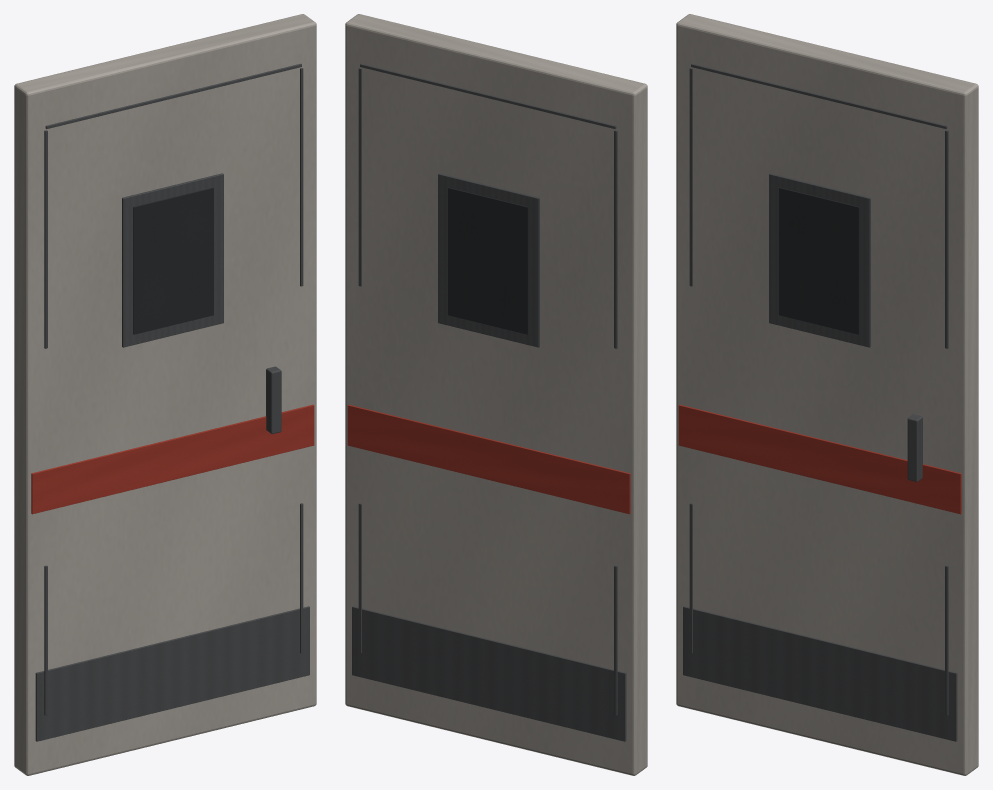
The model's file is industrial_door.glb.
The picture shows the model from 3 angles, left to right: view 1: azimuth 30°, elevation 25°; view 2: azimuth 150°, elevation 25°; view 3: azimuth 330°, elevation 25°; orthographic projection.
Parts seen in each view (by area): view 1: door_leaf.003, kick_plate.002, red_stripe, window_inset, window_bezel, panel_reveal, handle.008, edge_reveal.001, edge_reveal.003, edge_reveal, edge_reveal.002; view 2: door_leaf.003, kick_plate.003, red_stripe.001, window_inset.001, window_bezel.001, panel_reveal.001, edge_reveal.005, edge_reveal.007, edge_reveal.004, edge_reveal.006; view 3: door_leaf.003, kick_plate.002, red_stripe, window_inset, window_bezel, panel_reveal, handle.008, edge_reveal.003, edge_reveal.001, edge_reveal, edge_reveal.002.
Part boxes in pixels (x1,y1,x2,y2): door_leaf.003: (14, 14, 316, 775); kick_plate.002: (35, 606, 309, 741); red_stripe: (31, 404, 314, 514); window_inset: (133, 187, 213, 334); window_bezel: (122, 173, 223, 347); panel_reveal: (45, 63, 301, 128); handle.008: (266, 366, 281, 434); edge_reveal.001: (44, 130, 47, 348); edge_reveal.003: (300, 68, 303, 286); edge_reveal: (44, 565, 47, 715); edge_reveal.002: (300, 503, 303, 653); door_leaf.003: (345, 14, 647, 775); kick_plate.003: (352, 606, 626, 741); red_stripe.001: (347, 404, 630, 514); window_inset.001: (448, 187, 528, 334); window_bezel.001: (438, 173, 539, 347); panel_reveal.001: (360, 63, 616, 128); edge_reveal.005: (614, 130, 617, 348); edge_reveal.007: (358, 68, 361, 286); edge_reveal.004: (614, 565, 617, 715); edge_reveal.006: (358, 503, 361, 653); door_leaf.003: (676, 14, 978, 775); kick_plate.002: (683, 606, 957, 741); red_stripe: (678, 404, 961, 514); window_inset: (779, 187, 859, 334); window_bezel: (769, 173, 870, 347); panel_reveal: (691, 63, 947, 128); handle.008: (907, 414, 922, 481); edge_reveal.003: (945, 130, 948, 348); edge_reveal.001: (689, 68, 692, 286); edge_reveal: (689, 503, 692, 653); edge_reveal.002: (945, 565, 948, 715).
Size of the model in its own units: 0.98 by 2.2 by 0.1295.
Materials: 4 (4 with a texture image).
